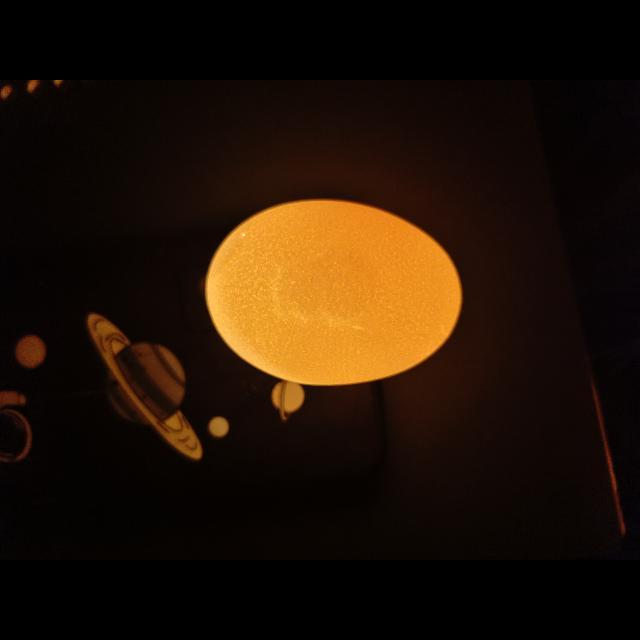AA - Premium: (205, 200, 463, 385)
